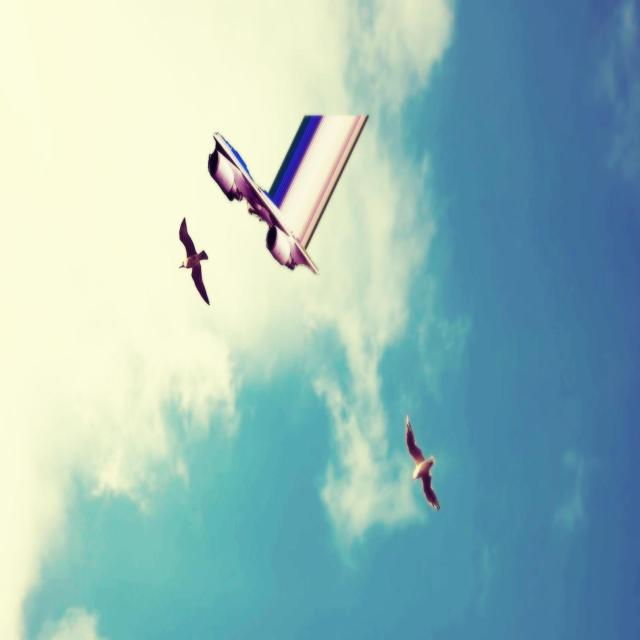airplane: (207, 112, 369, 275)
